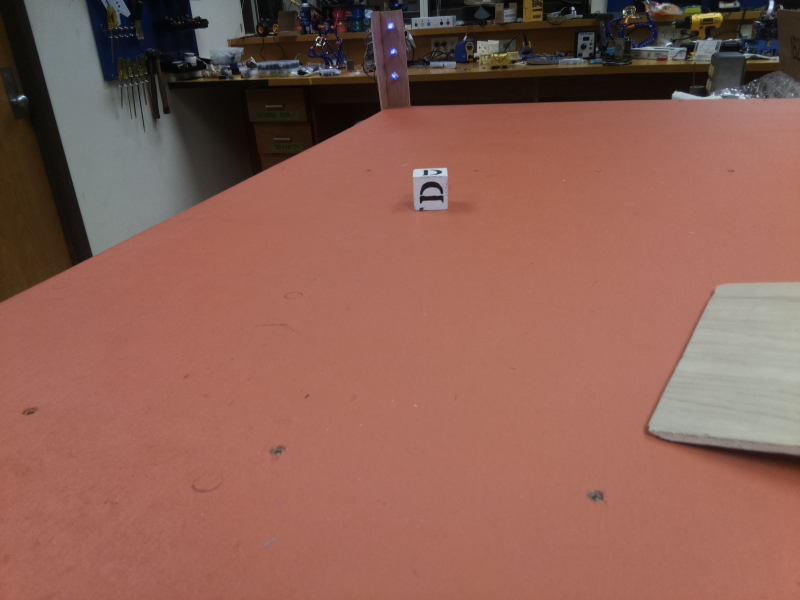blockD: (409, 165, 448, 211)
corner: (368, 11, 412, 109)
slope: (645, 283, 800, 464)
